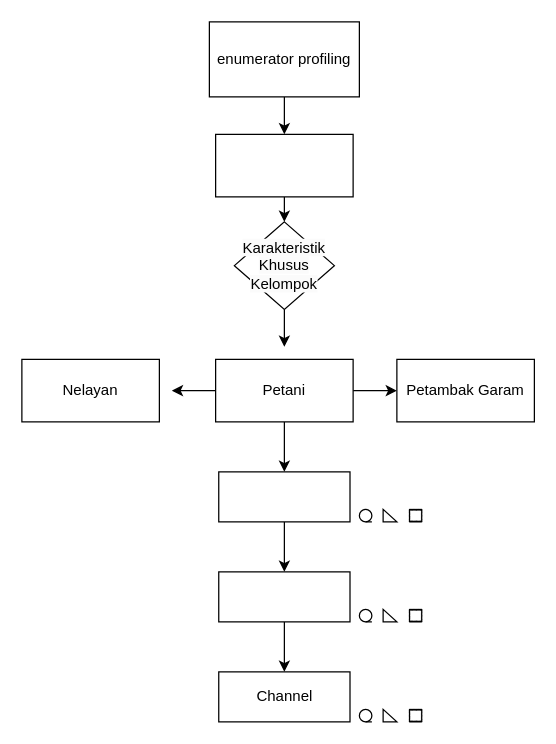
Some shapes in this 556 by 744 pixel diagram are drawn without their labels. Each missing label, with the centre of its shape:
"Driver" goes at point (284, 496).
"Profil Dasar Responden" goes at point (283, 165).
"Risk" goes at point (284, 596).
